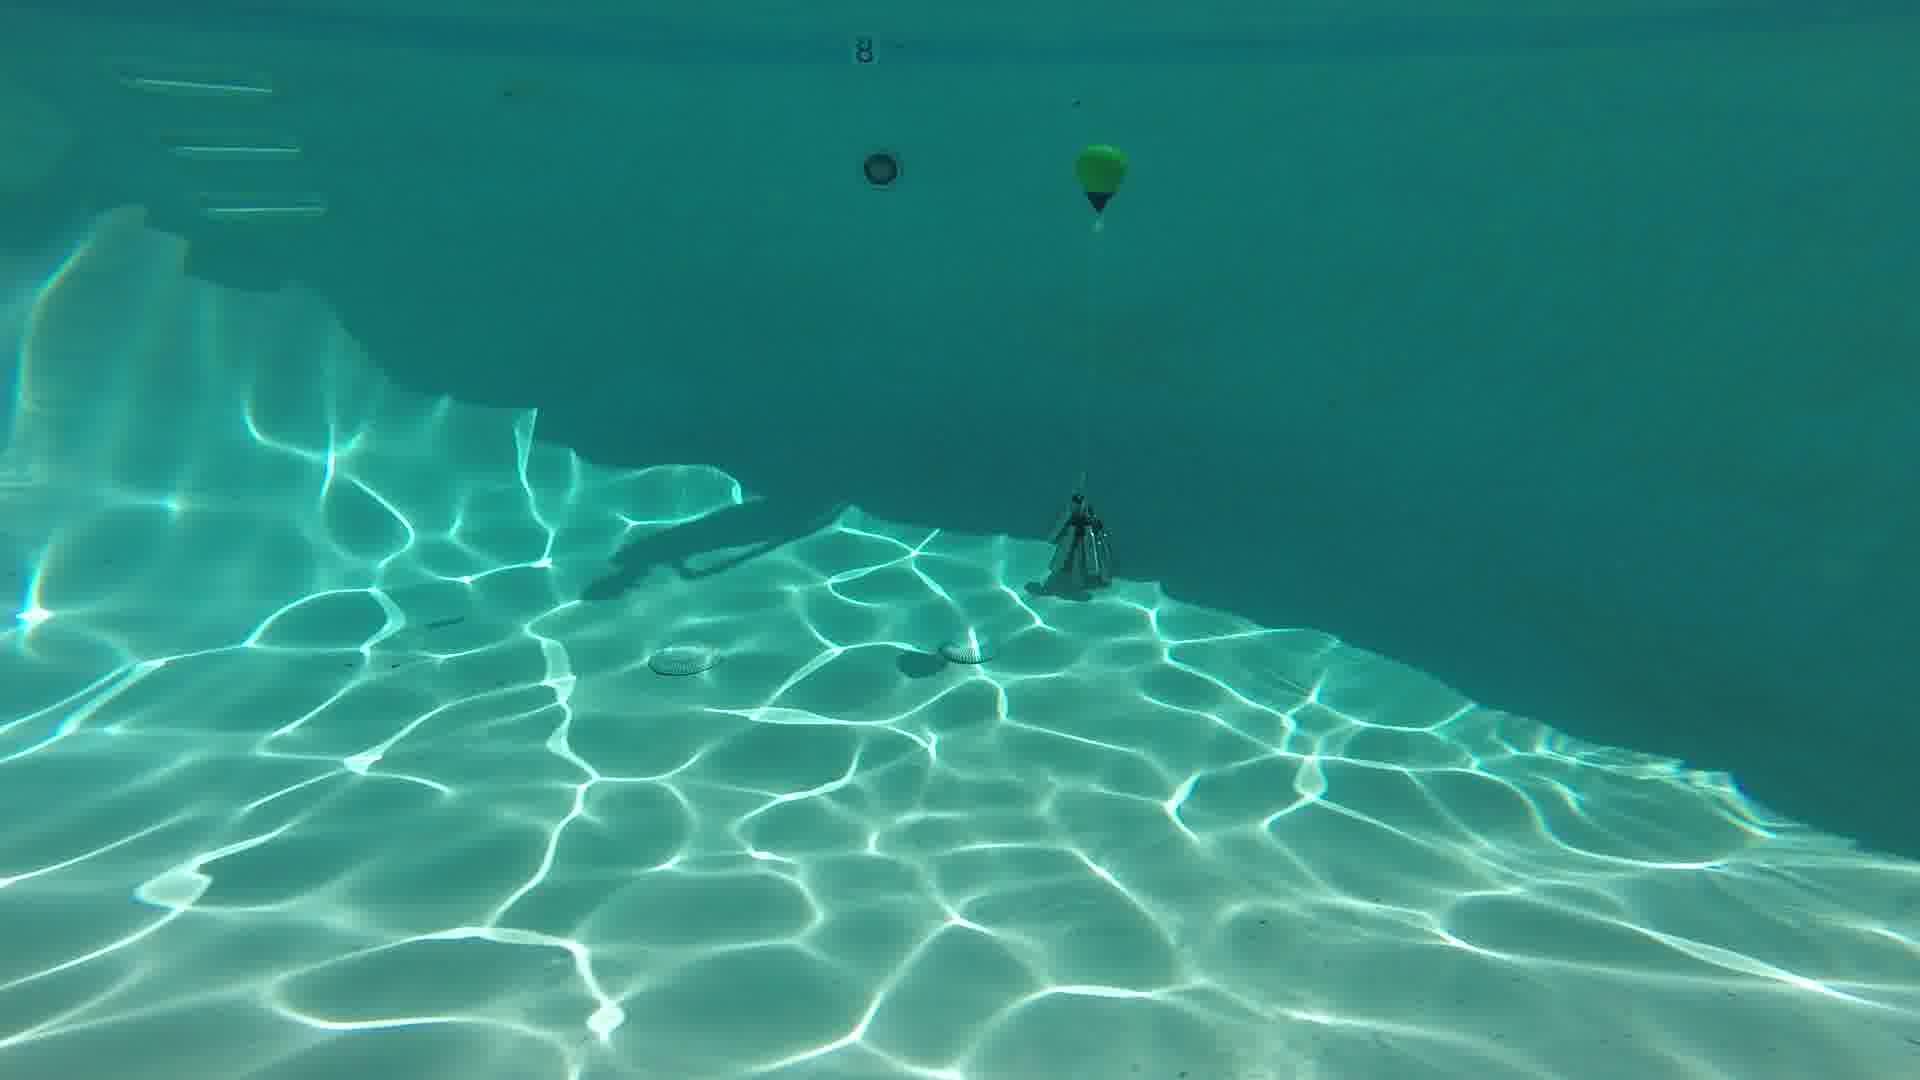yellow_buoy: (1077, 144, 1125, 215)
